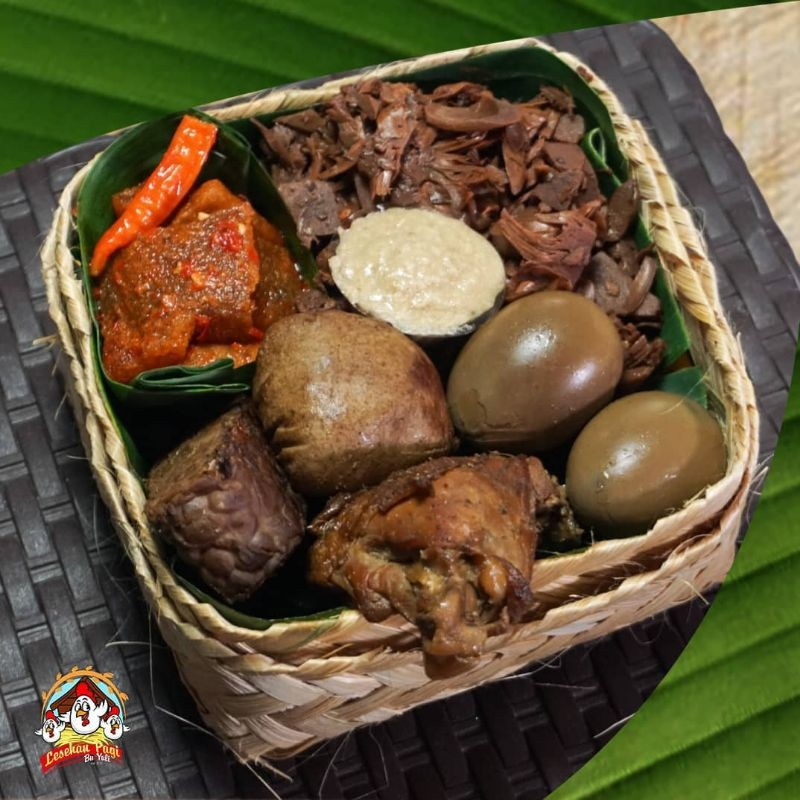gudeg: (79, 109, 695, 570)
